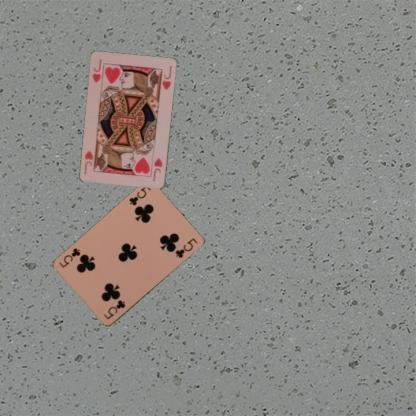5c: (126, 183, 152, 208), (101, 298, 127, 320)
Jh: (150, 156, 164, 182), (90, 57, 103, 84)
